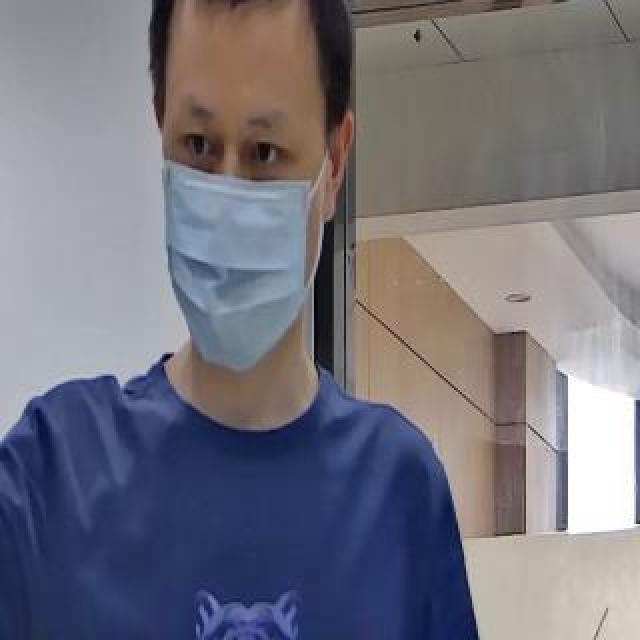Guns: (0, 0, 2, 294)
